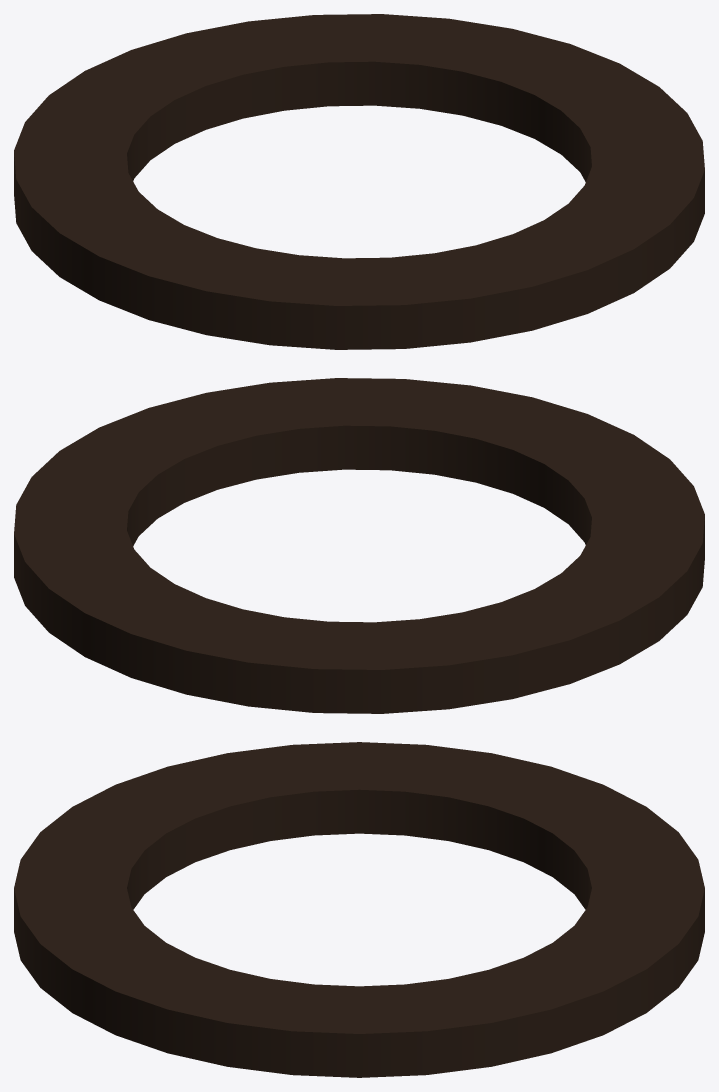
Rendered from SM_ENV_Platform.fbx.
3 renders of one model, top to bottom at view 1: azimuth 30°, elevation 25°; view 2: azimuth 150°, elevation 25°; view 3: azimuth 270°, elevation 25°, orthographic.
Parts seen in each view (by area): view 1: SM_ENV_Platform; view 2: SM_ENV_Platform; view 3: SM_ENV_Platform.
Part boxes in pixels (bbox=[...]): SM_ENV_Platform: bbox=[14, 14, 704, 349]; SM_ENV_Platform: bbox=[14, 378, 704, 713]; SM_ENV_Platform: bbox=[14, 742, 704, 1077].
Size of the model in its own units: 100 by 7 by 100.
